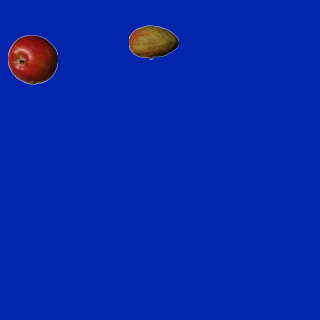Apple Braeburn: (7, 34, 57, 84)
Papaya: (128, 17, 178, 67)
